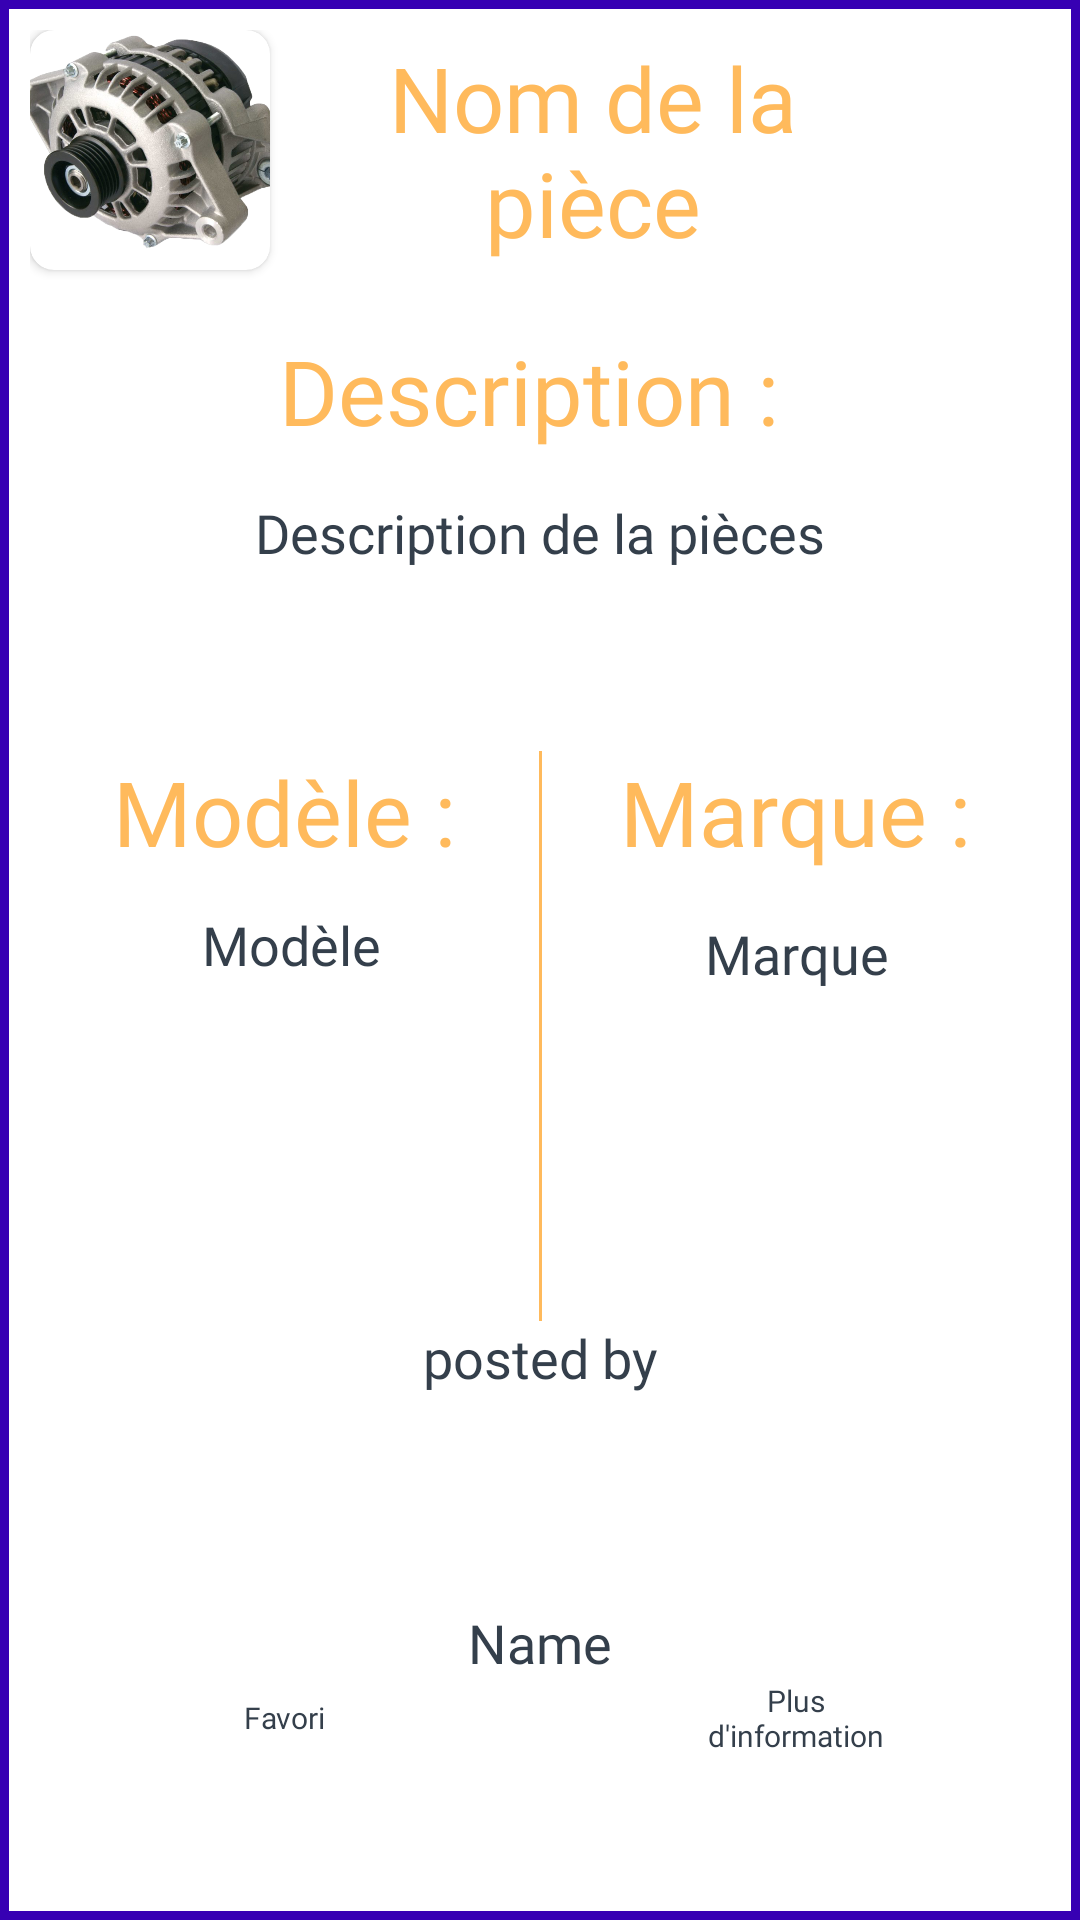

Where icons sit on this 1080 × 1920 app screen, as box(x1, y1, x2, y2):
alternateur: box(30, 32, 270, 270)
